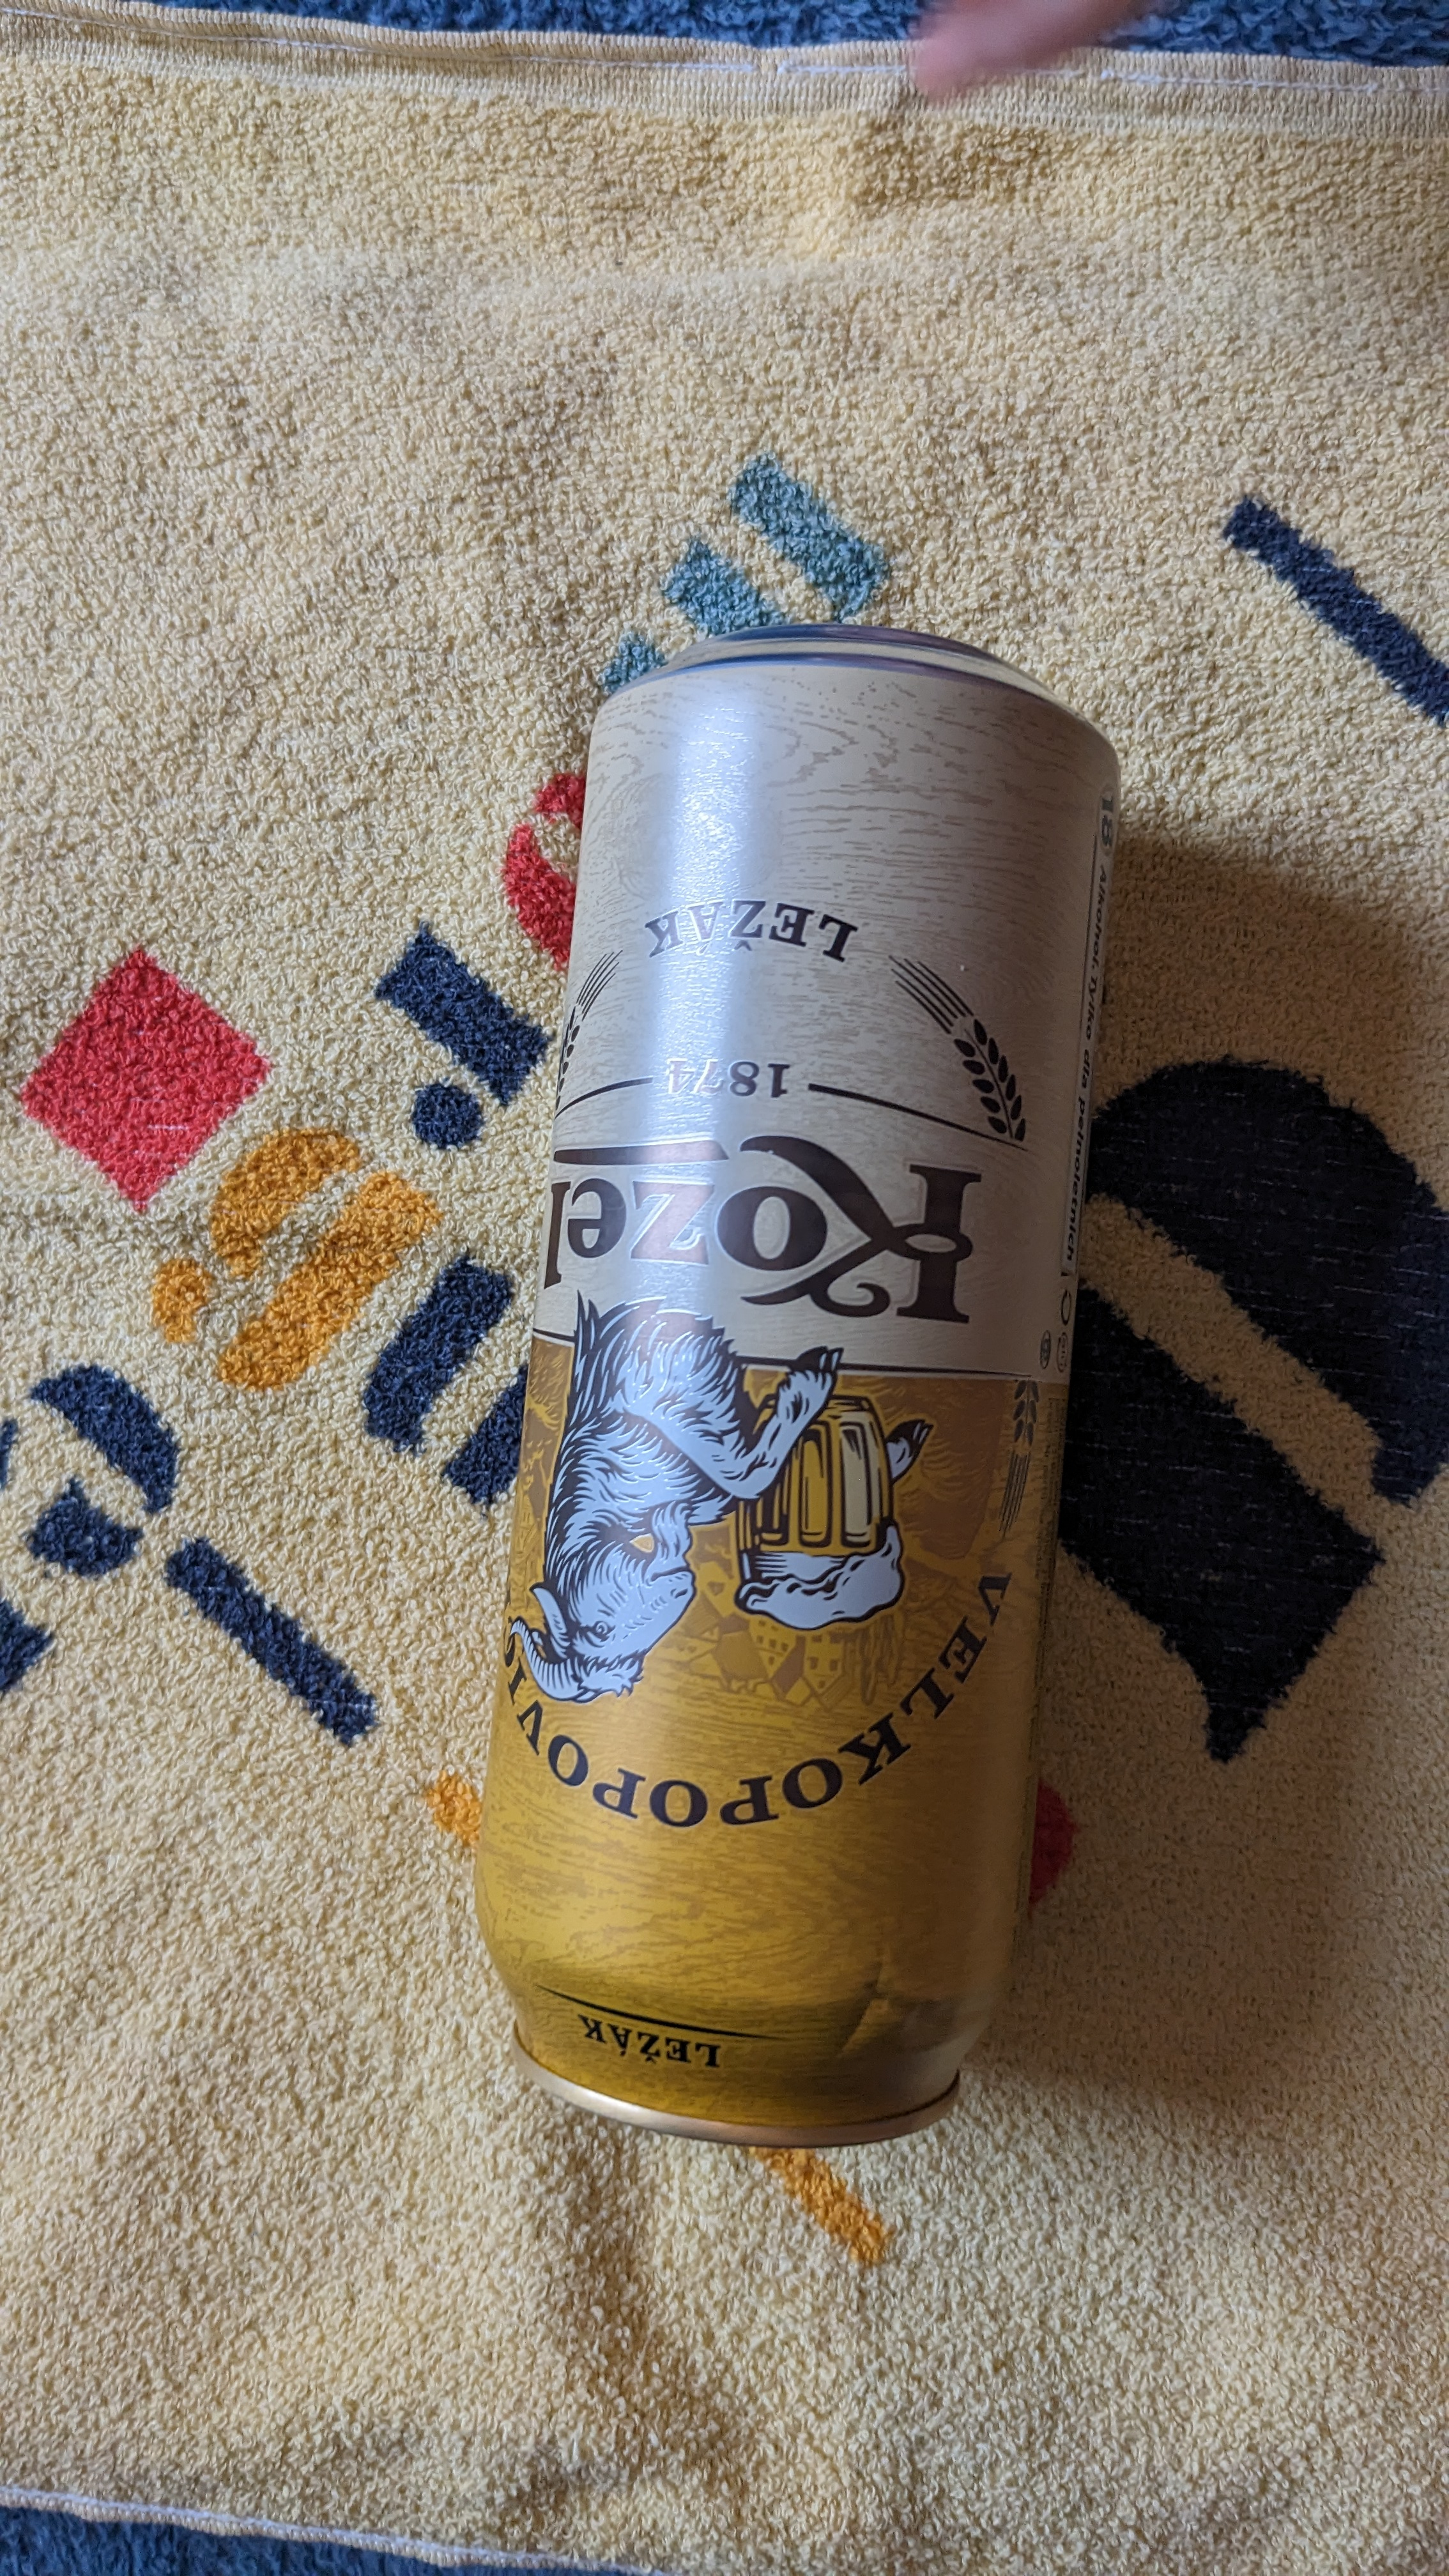kozel: (465, 635, 1108, 2185)
